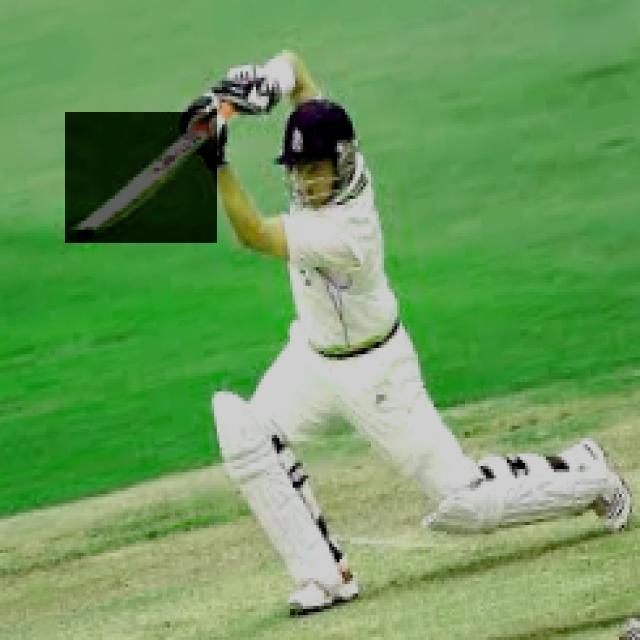bat: (65, 111, 213, 246)
toe: (68, 224, 103, 241)
